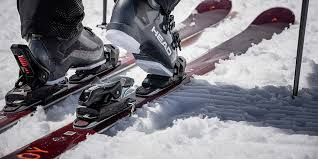skis: (1, 1, 294, 159)
